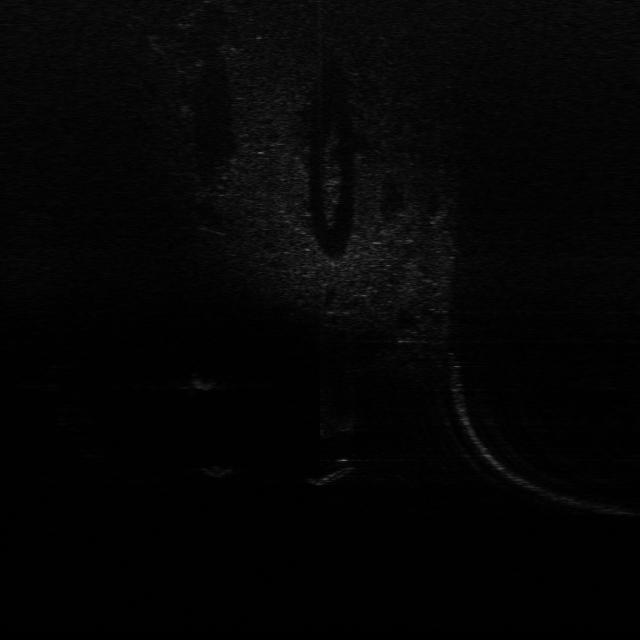cube: (196, 462, 234, 478)
square cage: (180, 372, 220, 391)
tyre: (302, 457, 358, 486)
